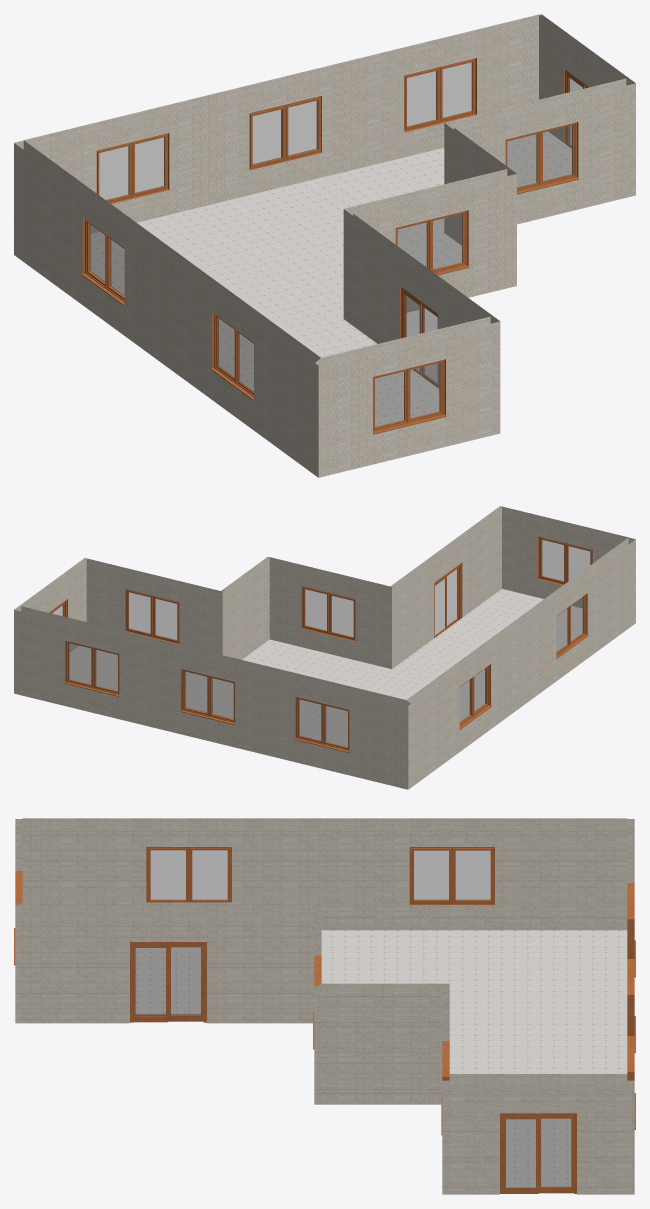
File: telhado36a.glb
3 renders of one model, top to bottom at view 1: azimuth 30°, elevation 25°; view 2: azimuth 150°, elevation 25°; view 3: azimuth 270°, elevation 25°, orthographic. The views are drawn at different scales.
Visible parts, largest first — view 1: object 2, root, object 3, object 4; view 2: object 2, root, object 3, object 4; view 3: object 2, root, object 3, object 4.
Part boxes in pixels (x1,y1,x2,y2): object 2: [14, 14, 635, 477]; root: [90, 131, 571, 426]; object 3: [90, 62, 582, 427]; object 4: [81, 58, 588, 434]; object 2: [14, 506, 635, 789]; root: [69, 589, 582, 747]; object 3: [52, 540, 590, 747]; object 4: [49, 536, 592, 752]; object 2: [15, 818, 634, 1194]; root: [135, 930, 627, 1187]; object 3: [135, 850, 571, 1187]; object 4: [14, 847, 635, 1193].
Size of the model in its own units: 14.53 by 3.04 by 14.56.
Materials: 5 (3 with a texture image).
